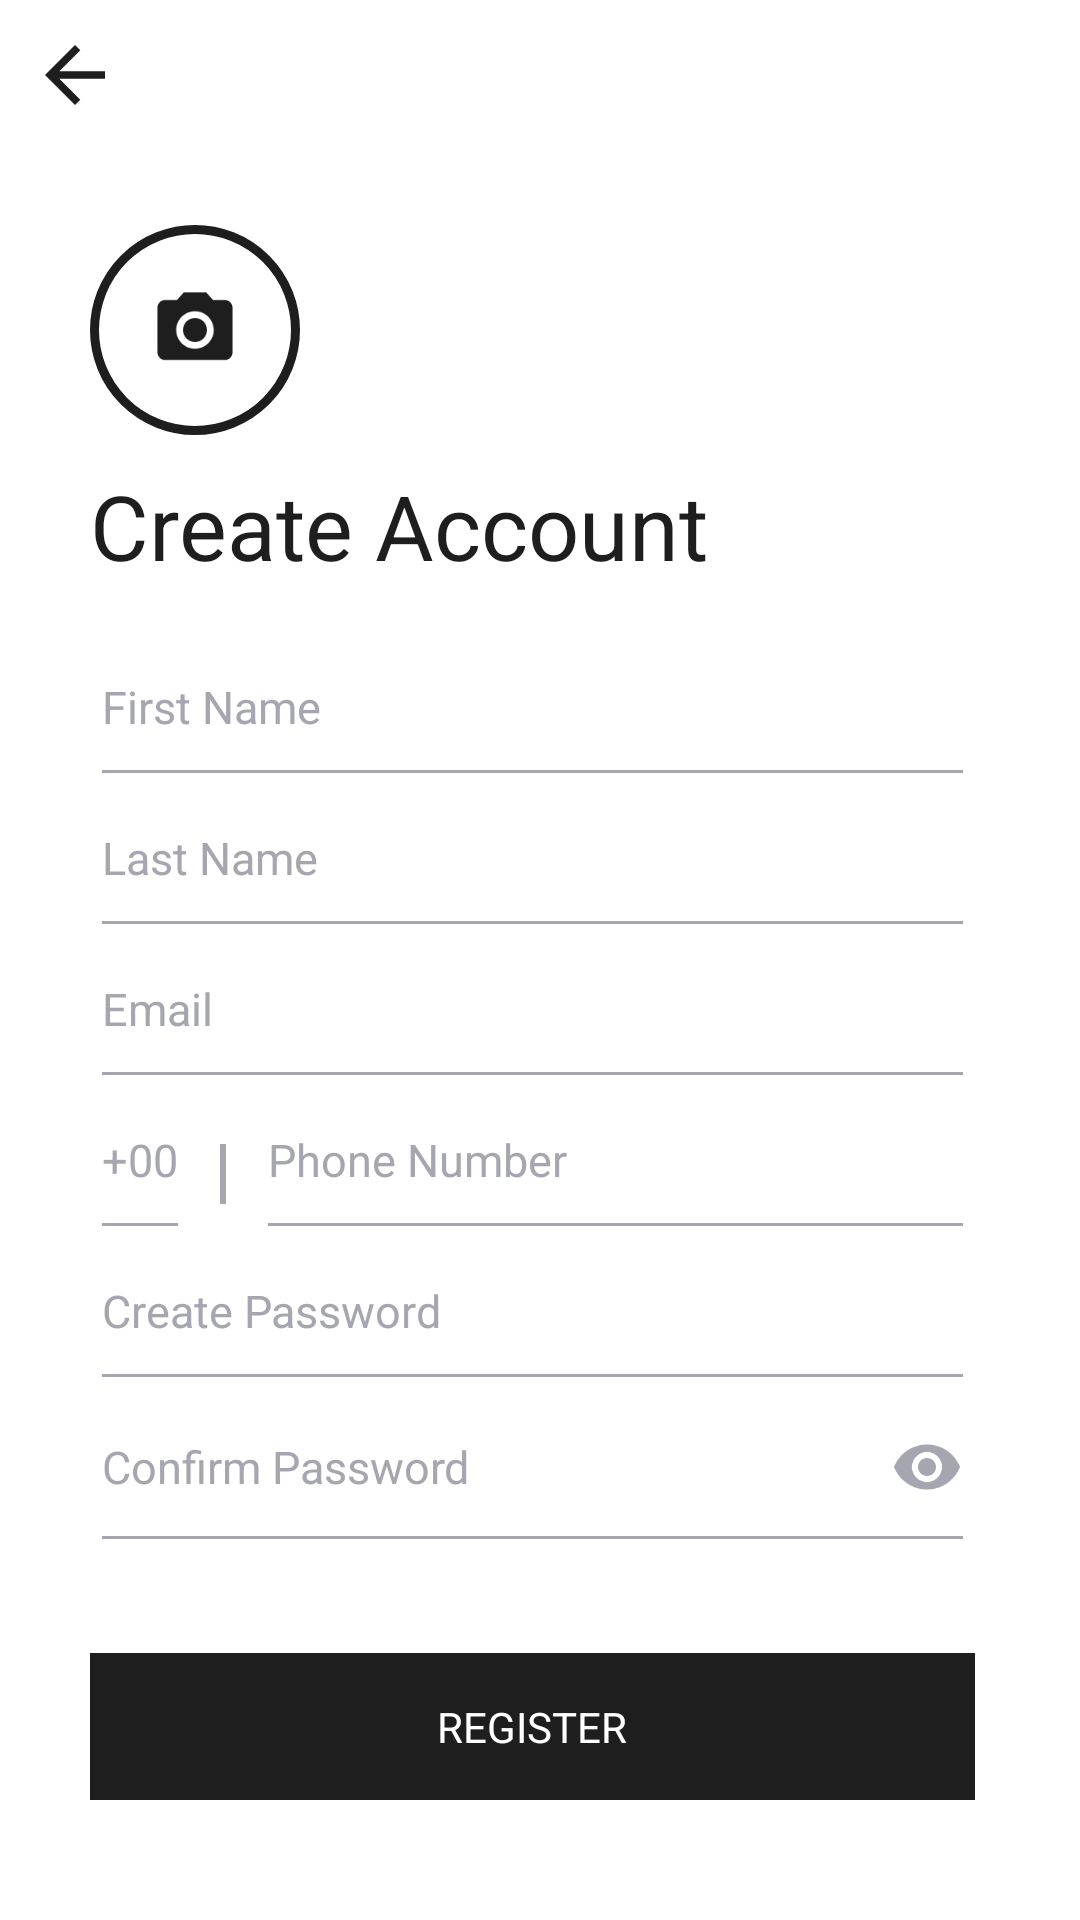

Icon click points for this 1080×1920 phone screenshot, format (x=x, y=y):
arrow back: (x=75, y=75)
camera: (x=195, y=330)
